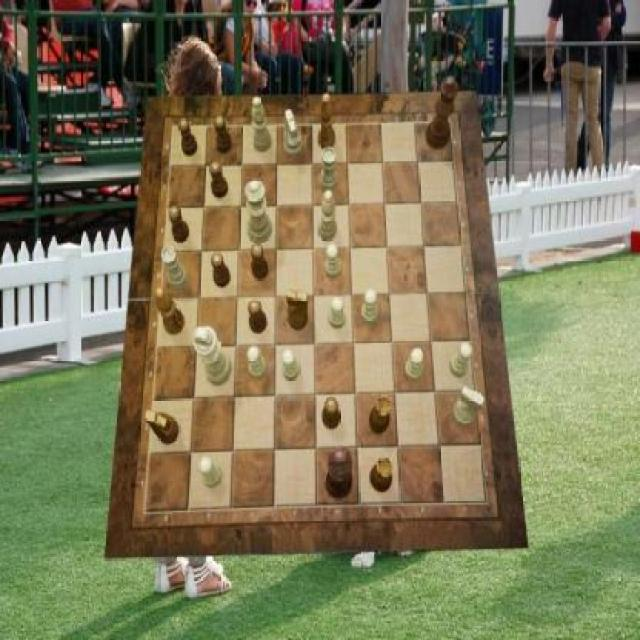bishop: (156, 288, 186, 334), (319, 92, 336, 150)
black-bishop: (326, 446, 353, 500)
black-king: (146, 410, 180, 446), (286, 289, 309, 331)
black-knight: (178, 118, 198, 157), (169, 206, 189, 244), (211, 252, 231, 288), (214, 115, 231, 154), (210, 162, 228, 198), (248, 299, 267, 333), (251, 244, 268, 280), (322, 397, 339, 431)
black-pawn: (426, 75, 459, 150)
black-queen: (369, 395, 392, 434), (371, 457, 394, 493)
black-rook: (252, 96, 272, 152), (318, 190, 338, 242)
white-bishop: (194, 326, 231, 386)
white-king: (454, 385, 486, 426), (284, 110, 304, 158)
white-knight: (450, 343, 472, 378), (200, 457, 223, 489), (248, 345, 268, 379), (362, 290, 379, 326), (326, 244, 343, 280), (405, 348, 422, 382), (282, 349, 299, 382), (328, 297, 345, 329)
white-pawn: (246, 180, 274, 244)
white-queen: (162, 246, 189, 290), (318, 148, 338, 194)
